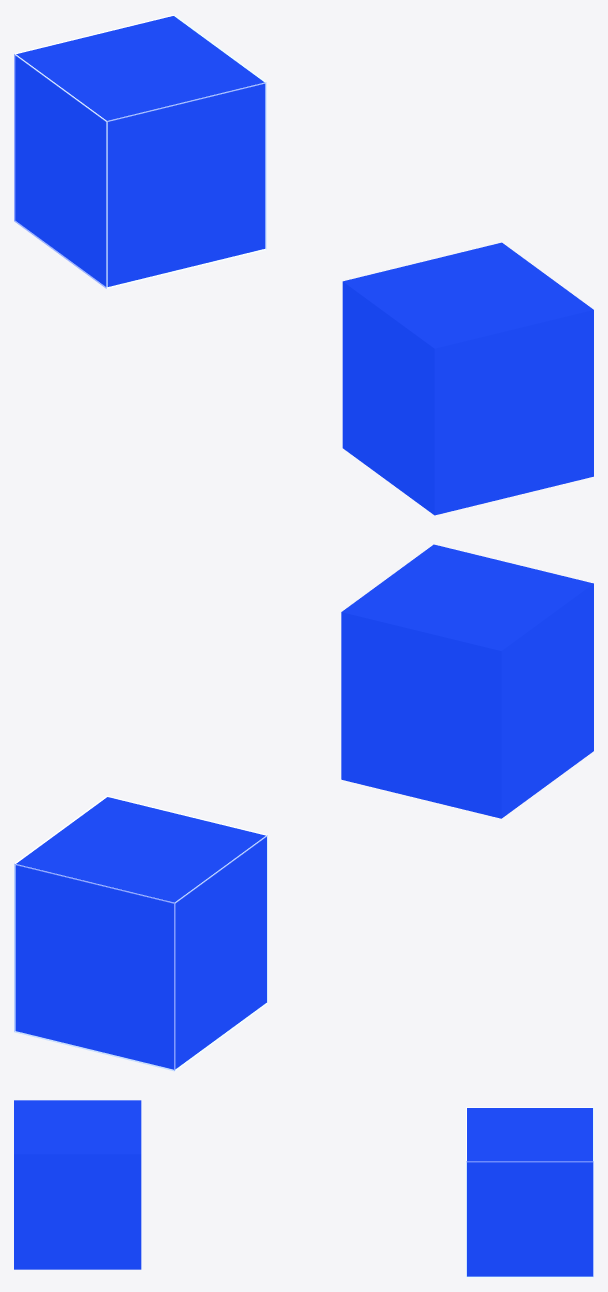
3 renders of one model, top to bottom at view 1: azimuth 30°, elevation 25°; view 2: azimuth 150°, elevation 25°; view 3: azimuth 270°, elevation 25°, orthographic. The views are drawn at different scales.
Visible parts, largest first — view 1: 立方体, Cube, Cube.001; view 2: 立方体, Cube, Cube.001; view 3: 立方体, Cube, Cube.001.
Part boxes in pixels (x1,y1,x2,y2): 立方体: [342, 242, 593, 515]; Cube: [15, 16, 265, 286]; Cube.001: [14, 14, 266, 288]; 立方体: [341, 544, 593, 818]; Cube: [15, 797, 266, 1069]; Cube.001: [14, 795, 267, 1071]; 立方体: [14, 1100, 141, 1269]; Cube: [467, 1108, 592, 1276]; Cube.001: [466, 1107, 593, 1277].
Bounding box in the file's own units: 2.02 × 2.14 × 9.1.
